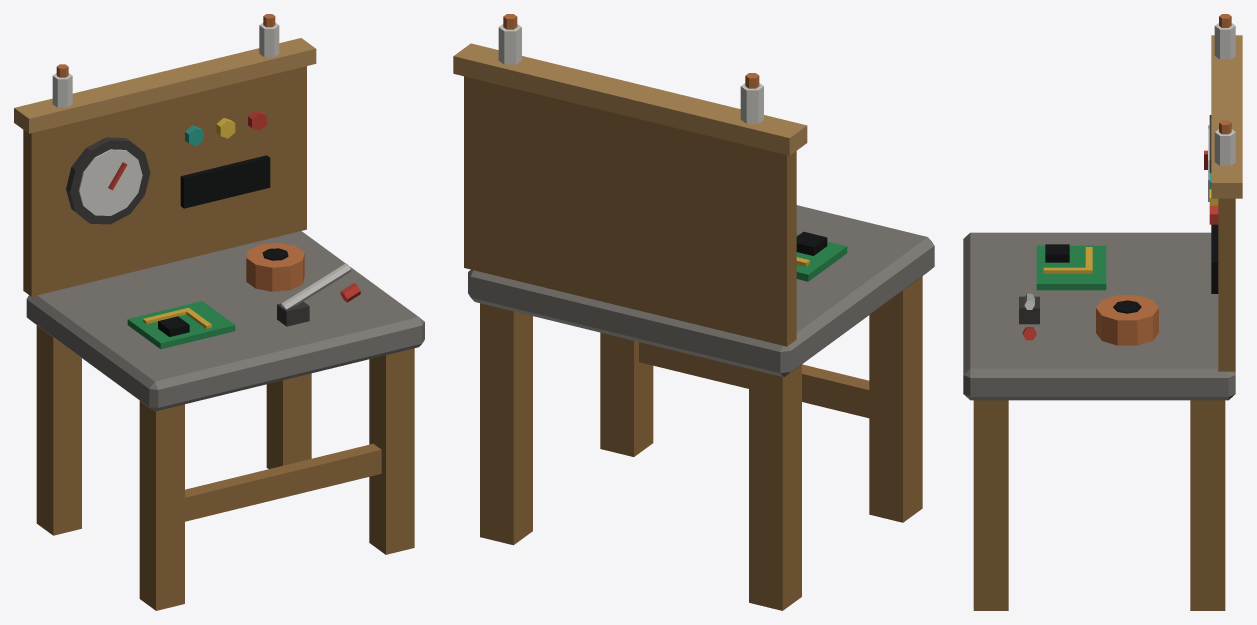
File: wb_elec.fbx
3 views of the same model, side by side, from view 1: azimuth 30°, elevation 25°; view 2: azimuth 150°, elevation 25°; view 3: azimuth 270°, elevation 25° (orthographic). The views are drawn at different scales.
Parts seen in each view (by area): view 1: wb_elec; view 2: wb_elec; view 3: wb_elec.
Part boxes in pixels (bbox=[...]): wb_elec: bbox=[14, 14, 424, 610]; wb_elec: bbox=[453, 14, 934, 610]; wb_elec: bbox=[963, 14, 1242, 610].
Size of the model in its own units: 3 by 4.5 by 2.4.
